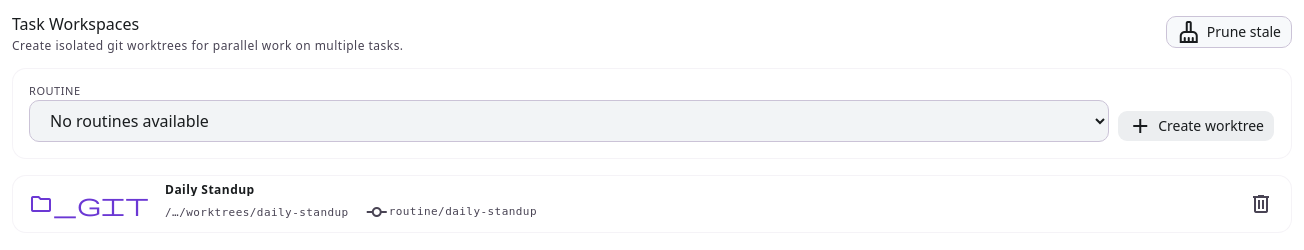
Test case: WorktreePanel › shows inline Remove/Cancel buttons on delete click
Check: the text "Daily Standup" is shown, box [165,181,255,198]
Click the button named "Remove worktree for Daily Standup": click(1261, 204) [1247,190,1275,218]
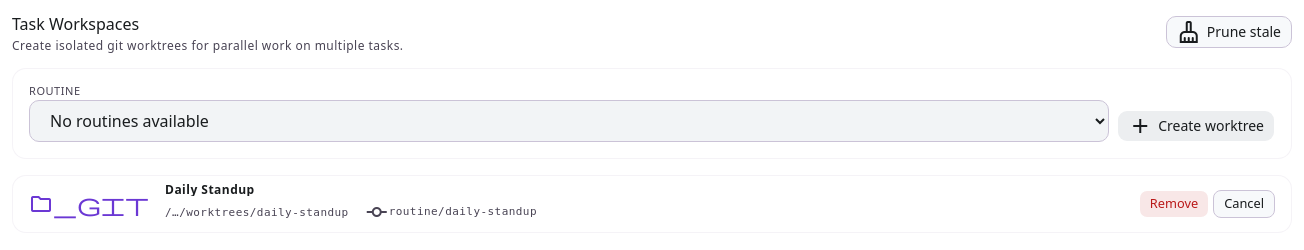
Check: the button with aria-label "Confirm remove worktree" is shown, box [1139,190,1209,218]
Check: the button with aria-label "Cancel remove" is shown, box [1213,190,1275,218]
